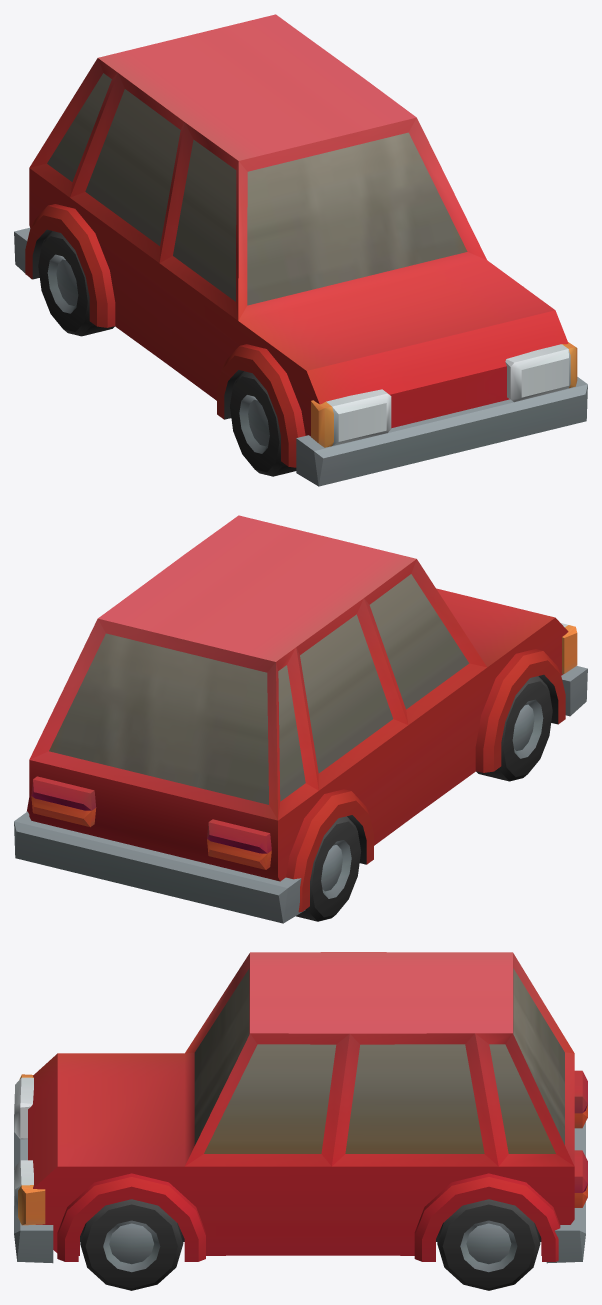
File: car_hatchback.glb
The picture shows the model from 3 angles, top to bottom: view 1: azimuth 30°, elevation 25°; view 2: azimuth 150°, elevation 25°; view 3: azimuth 270°, elevation 25°; orthographic projection. The views are drawn at different scales.
Parts seen in each view (by area): view 1: Cube.13730, car_hatchback_wheel_rear_right, car_hatchback_wheel_front_right; view 2: Cube.13730, car_hatchback_wheel_front_right, car_hatchback_wheel_rear_right; view 3: Cube.13730, car_hatchback_wheel_rear_left, car_hatchback_wheel_front_left.
Boxes of the visible parts, x1,y1,x2,y2 form: Cube.13730: (14,14,587,486); car_hatchback_wheel_rear_right: (38,231,114,336); car_hatchback_wheel_front_right: (230,371,296,476); Cube.13730: (14,515,587,923); car_hatchback_wheel_front_right: (476,676,552,781); car_hatchback_wheel_rear_right: (296,816,361,921); Cube.13730: (14,952,587,1263); car_hatchback_wheel_rear_left: (437,1199,540,1290); car_hatchback_wheel_front_left: (80,1199,183,1290).
Size of the model in its own units: 0.4189 by 0.3688 by 0.8061.
1 material, 1 textured.
